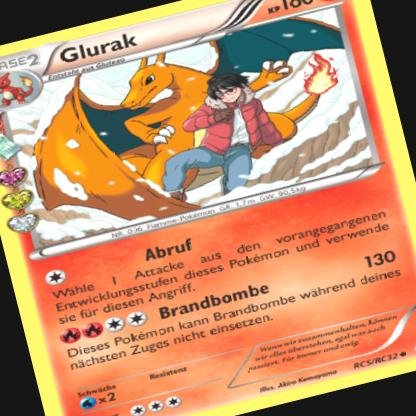Charizard: (48, 10, 373, 235)
